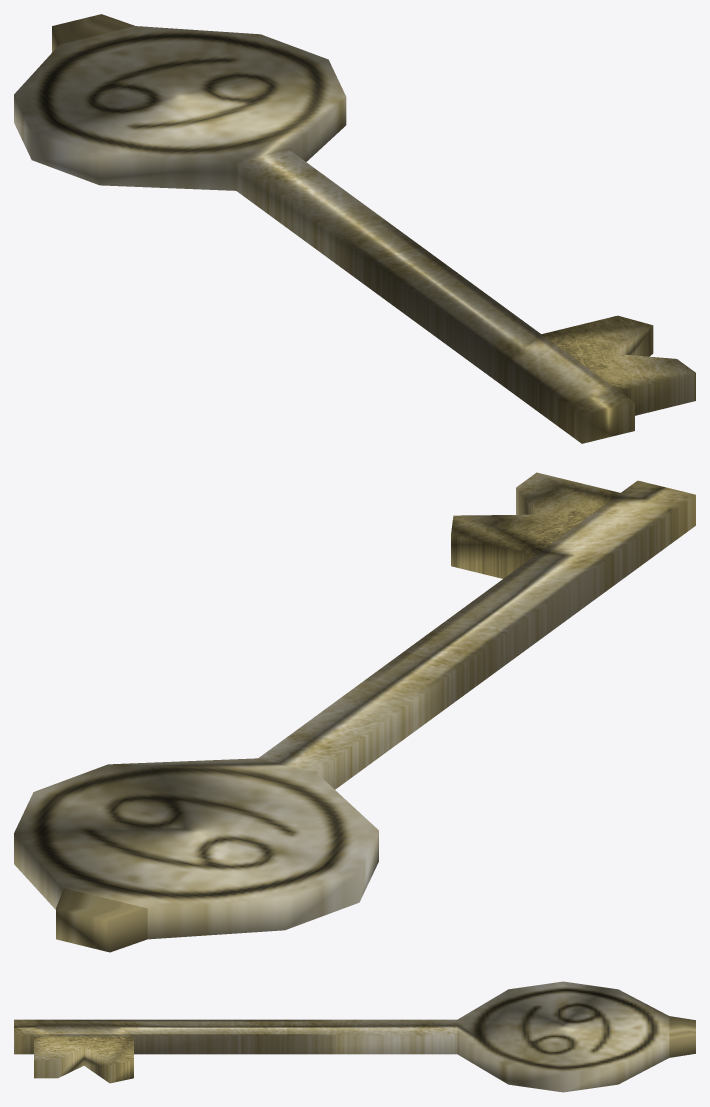
File: key_h_cancer.fbx
The picture shows the model from 3 angles, top to bottom: view 1: azimuth 30°, elevation 25°; view 2: azimuth 150°, elevation 25°; view 3: azimuth 270°, elevation 25°; orthographic projection. The views are drawn at different scales.
Visible parts, largest first — view 1: key_h_cancer; view 2: key_h_cancer; view 3: key_h_cancer.
Boxes of the visible parts, bbox=[...] form: key_h_cancer: bbox=[14, 14, 695, 443]; key_h_cancer: bbox=[14, 472, 695, 952]; key_h_cancer: bbox=[14, 981, 695, 1092].
Size of the model in its own units: 9.46 by 0.8583 by 29.34.
1 material, 1 textured.
